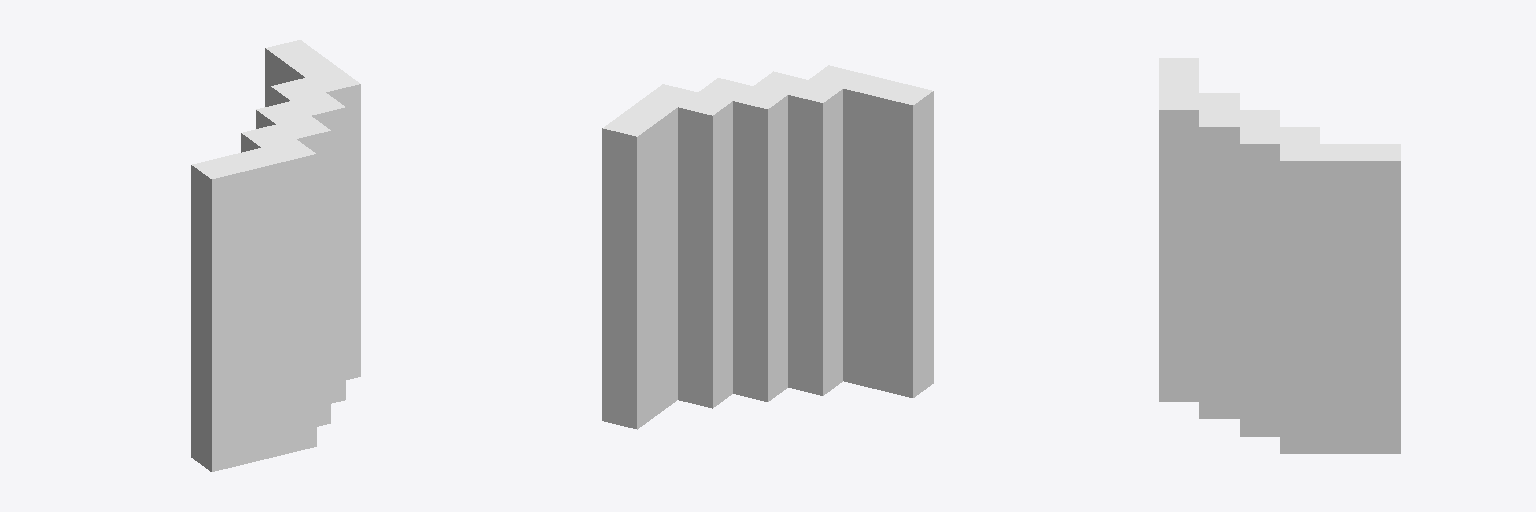
Rendered from battery_door.obj.
3 views of the same model, side by side, from view 1: azimuth 30°, elevation 25°; view 2: azimuth 150°, elevation 25°; view 3: azimuth 270°, elevation 25° (orthographic).
Parts seen in each view (by area): view 1: battery_door; view 2: battery_door; view 3: battery_door.
Part boxes in pixels (x1,y1,x2,y2): battery_door: (191, 40, 360, 471); battery_door: (602, 65, 933, 429); battery_door: (1159, 58, 1400, 453).
Bounding box in the file's own units: 6 × 8 × 6.